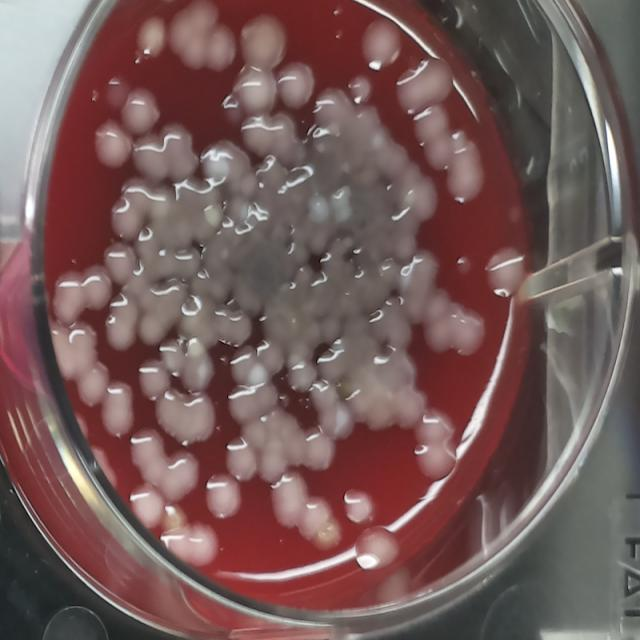Staphylococcus: (199, 140, 233, 186), (305, 192, 332, 227), (200, 200, 228, 233), (330, 403, 353, 438), (182, 331, 205, 362), (246, 362, 270, 391), (367, 127, 389, 156), (332, 203, 354, 228), (333, 181, 353, 208)
